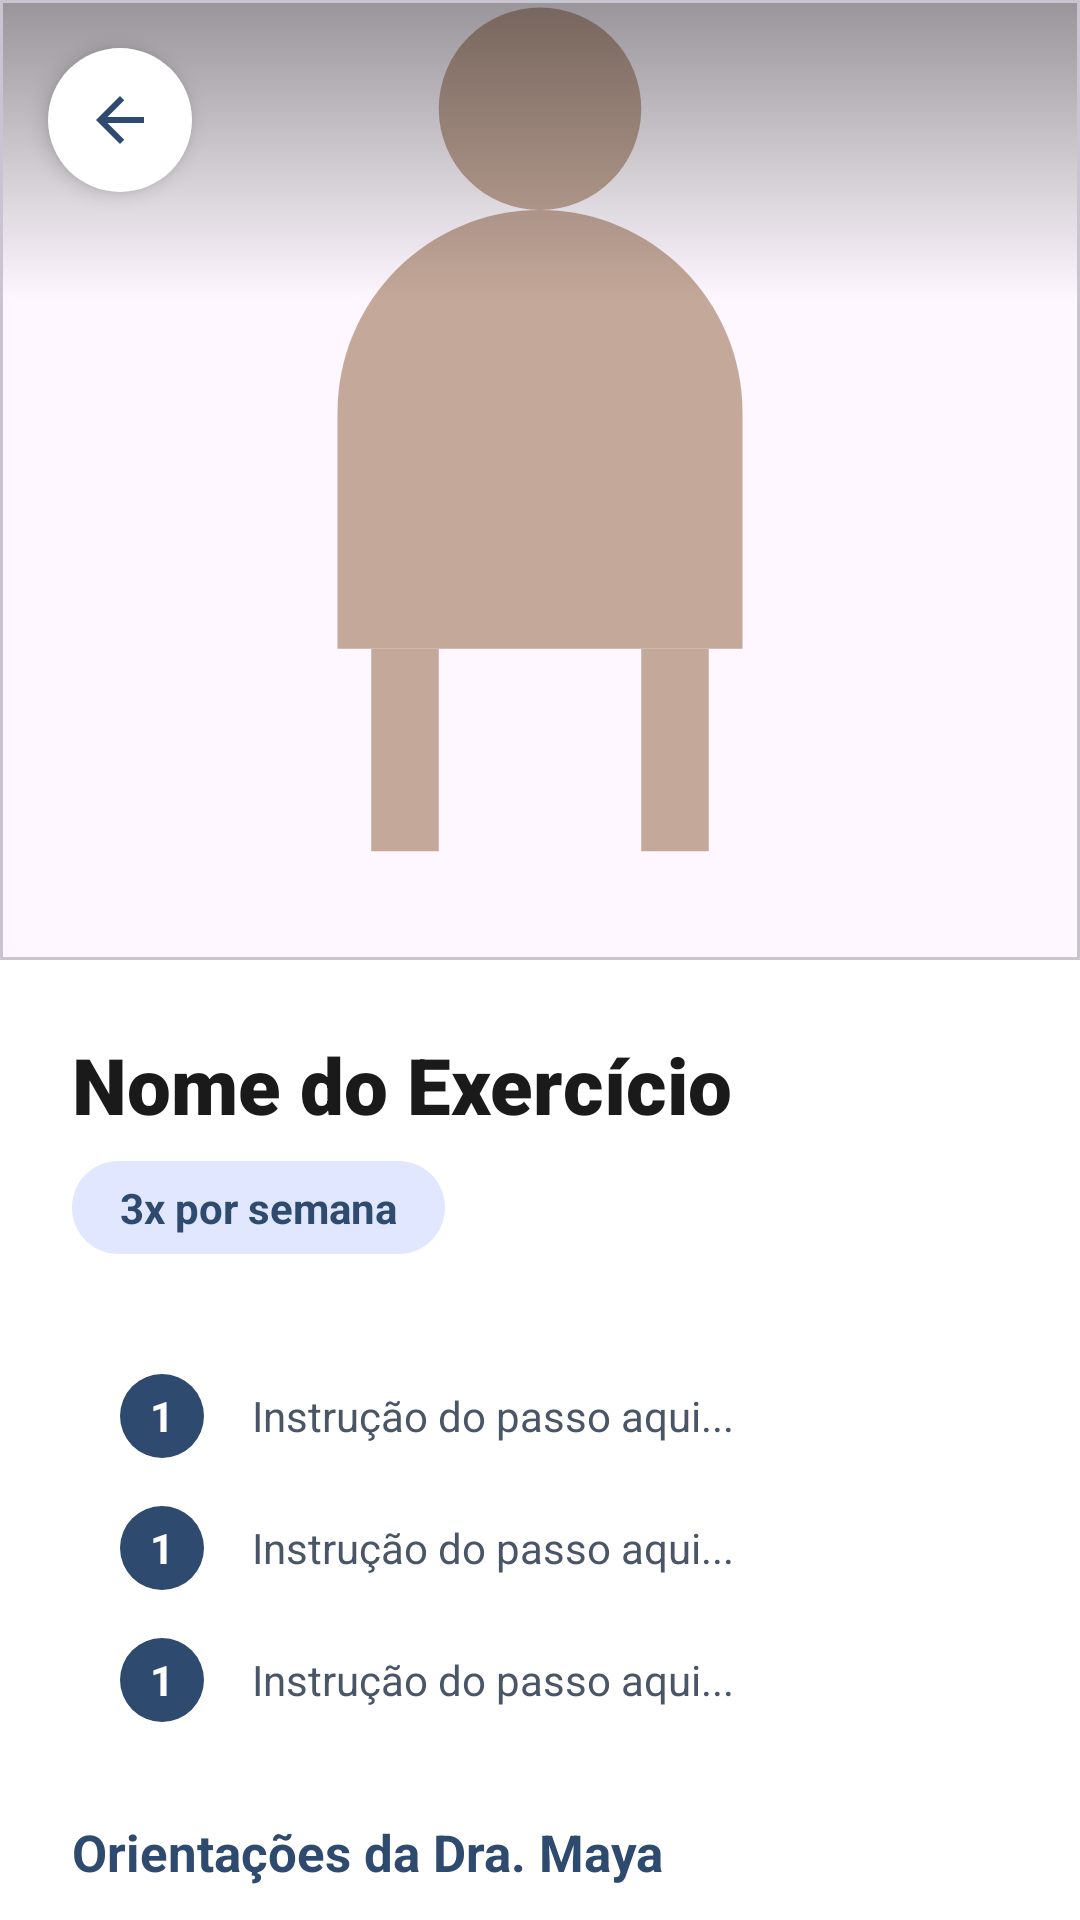

Screen size 1080×1920. Icon name, then its center in pixels as (x,y):
arrow back: (120,120)
